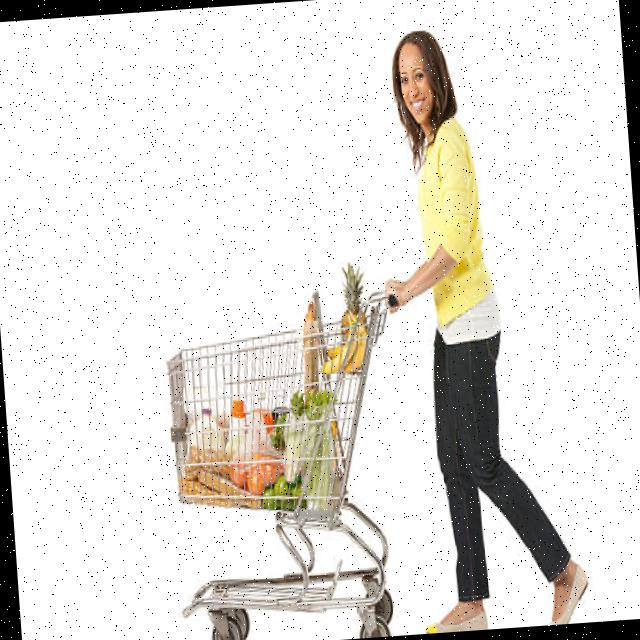Person: (370, 20, 591, 634)
